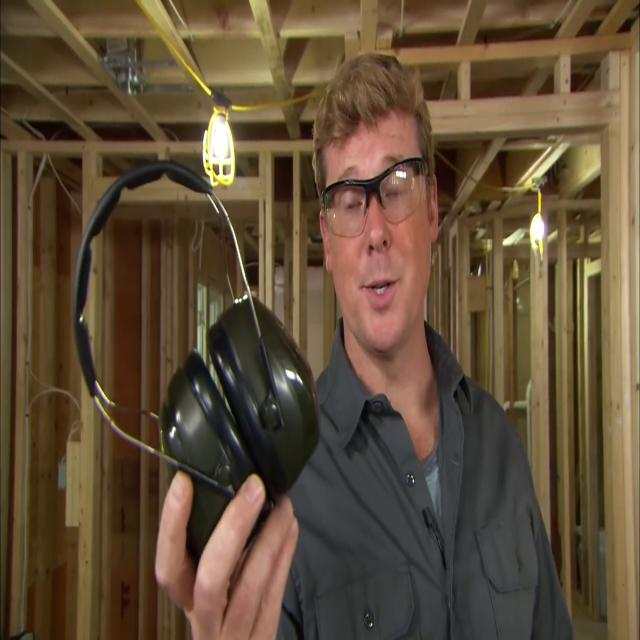earmuff: (205, 290, 322, 500), (156, 348, 272, 553)
glasses: (312, 156, 429, 242)
